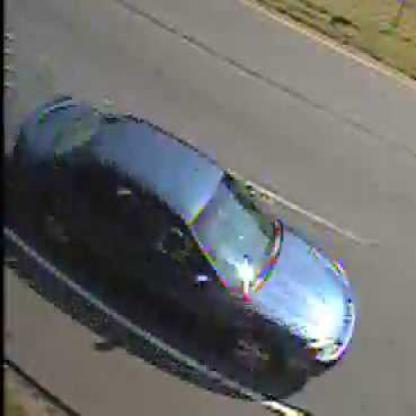car: (12, 99, 356, 379)
